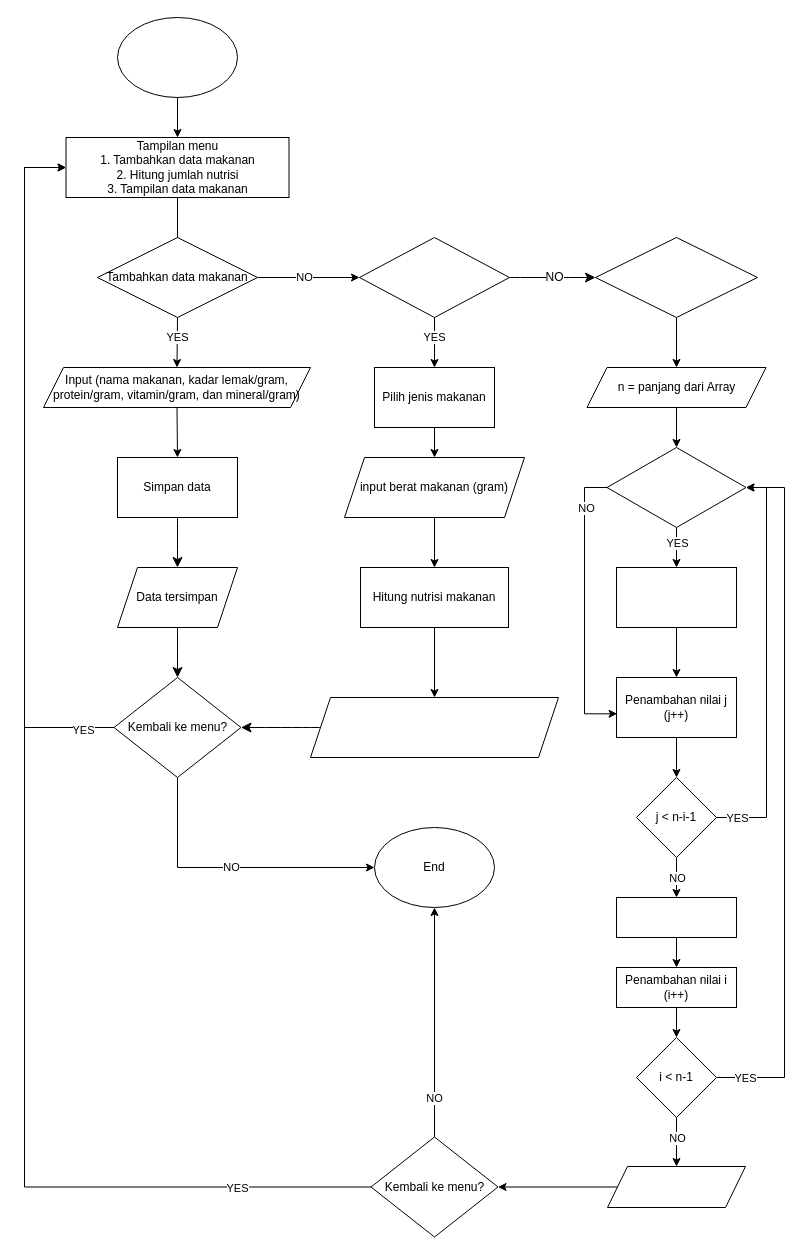
Some shapes in this 810 by 1255 pixel diagram are drawn without their labels. The shapes that lost their labels are listed below. From the top down, each one's centre as x and y in pixels, then its label:
At point 177,57: "Start".
At point 434,277: "Hitung jumlah nutrisi".
At point 676,277: "Tampilan data mkanan".
At point 676,487: "Array [j] > Array [j+1]".
At point 676,597: "Geser Array [j] dan Array [j+1]".
At point 434,727: "Nutrisi yang terkandung dalam makanan".
At point 676,917: "Clear j (j=0)".
At point 676,1187: "Data telah diurutkan".
